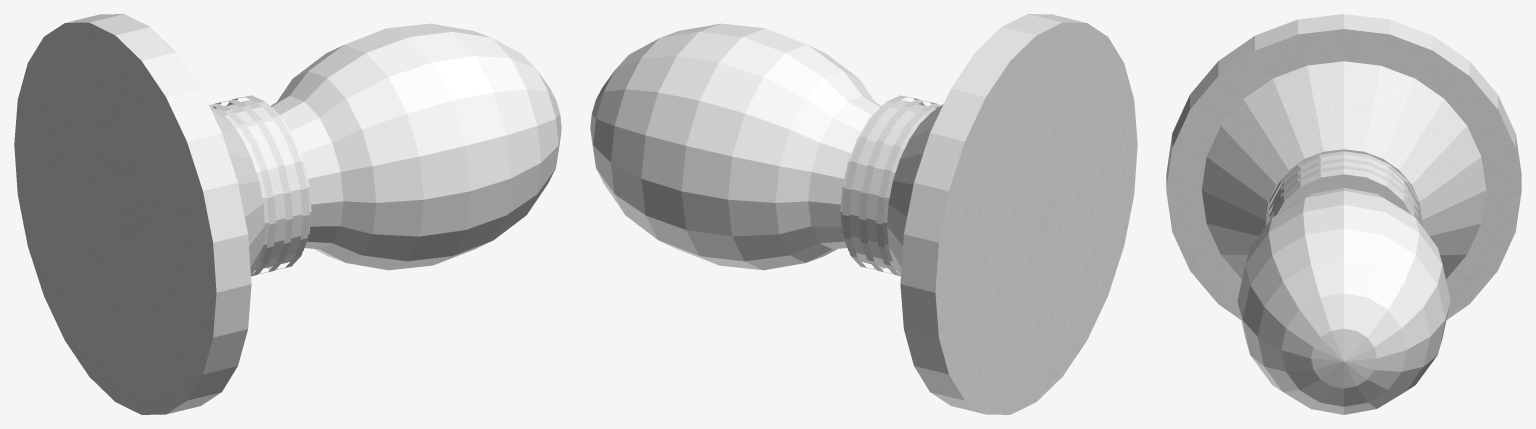
File: basiclampholder.obj
3 views of the same model, side by side, from view 1: azimuth 30°, elevation 25°; view 2: azimuth 150°, elevation 25°; view 3: azimuth 270°, elevation 25° (orthographic). The views are drawn at different scales.
Parts seen in each view (by area): view 1: Base, Light0, Metal, Trim; view 2: Base, Light0, Metal, Trim; view 3: Base, Light0, Metal, Trim.
Boxes of the visible parts, left/top/right/bottom form: Base: left=14, top=14, right=264, bottom=414; Light0: left=271, top=23, right=561, bottom=270; Metal: left=215, top=100, right=311, bottom=270; Trim: left=210, top=95, right=309, bottom=276; Base: left=887, top=14, right=1137, bottom=414; Light0: left=590, top=23, right=880, bottom=270; Metal: left=840, top=100, right=936, bottom=270; Trim: left=842, top=95, right=941, bottom=276; Base: left=1166, top=14, right=1521, bottom=319; Light0: left=1237, top=188, right=1450, bottom=414; Metal: left=1270, top=154, right=1417, bottom=220; Trim: left=1265, top=151, right=1422, bottom=225.
Size of the model in its own units: 0.31 by 0.25 by 0.25.
